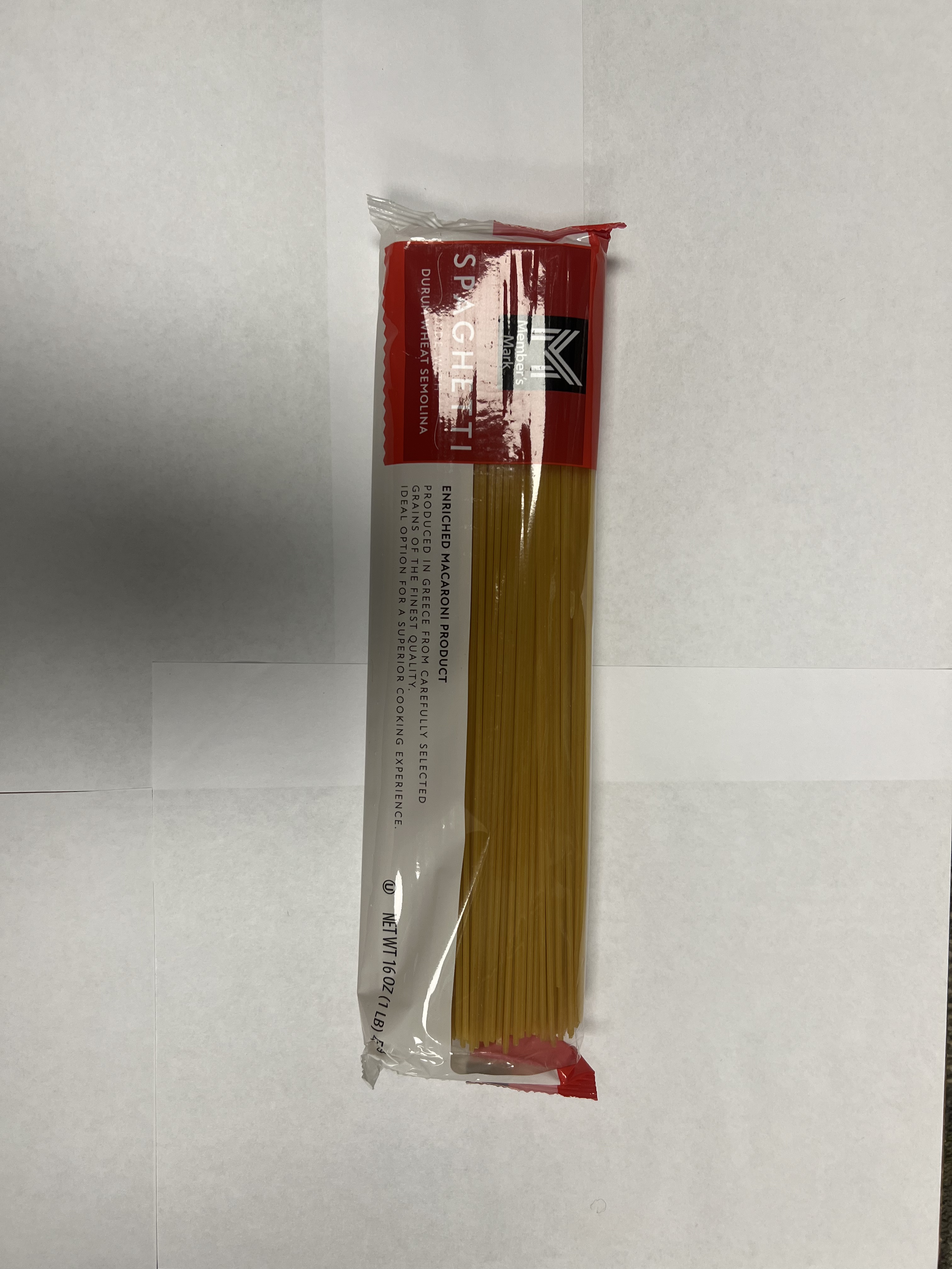packaged: (351, 192, 632, 1106)
